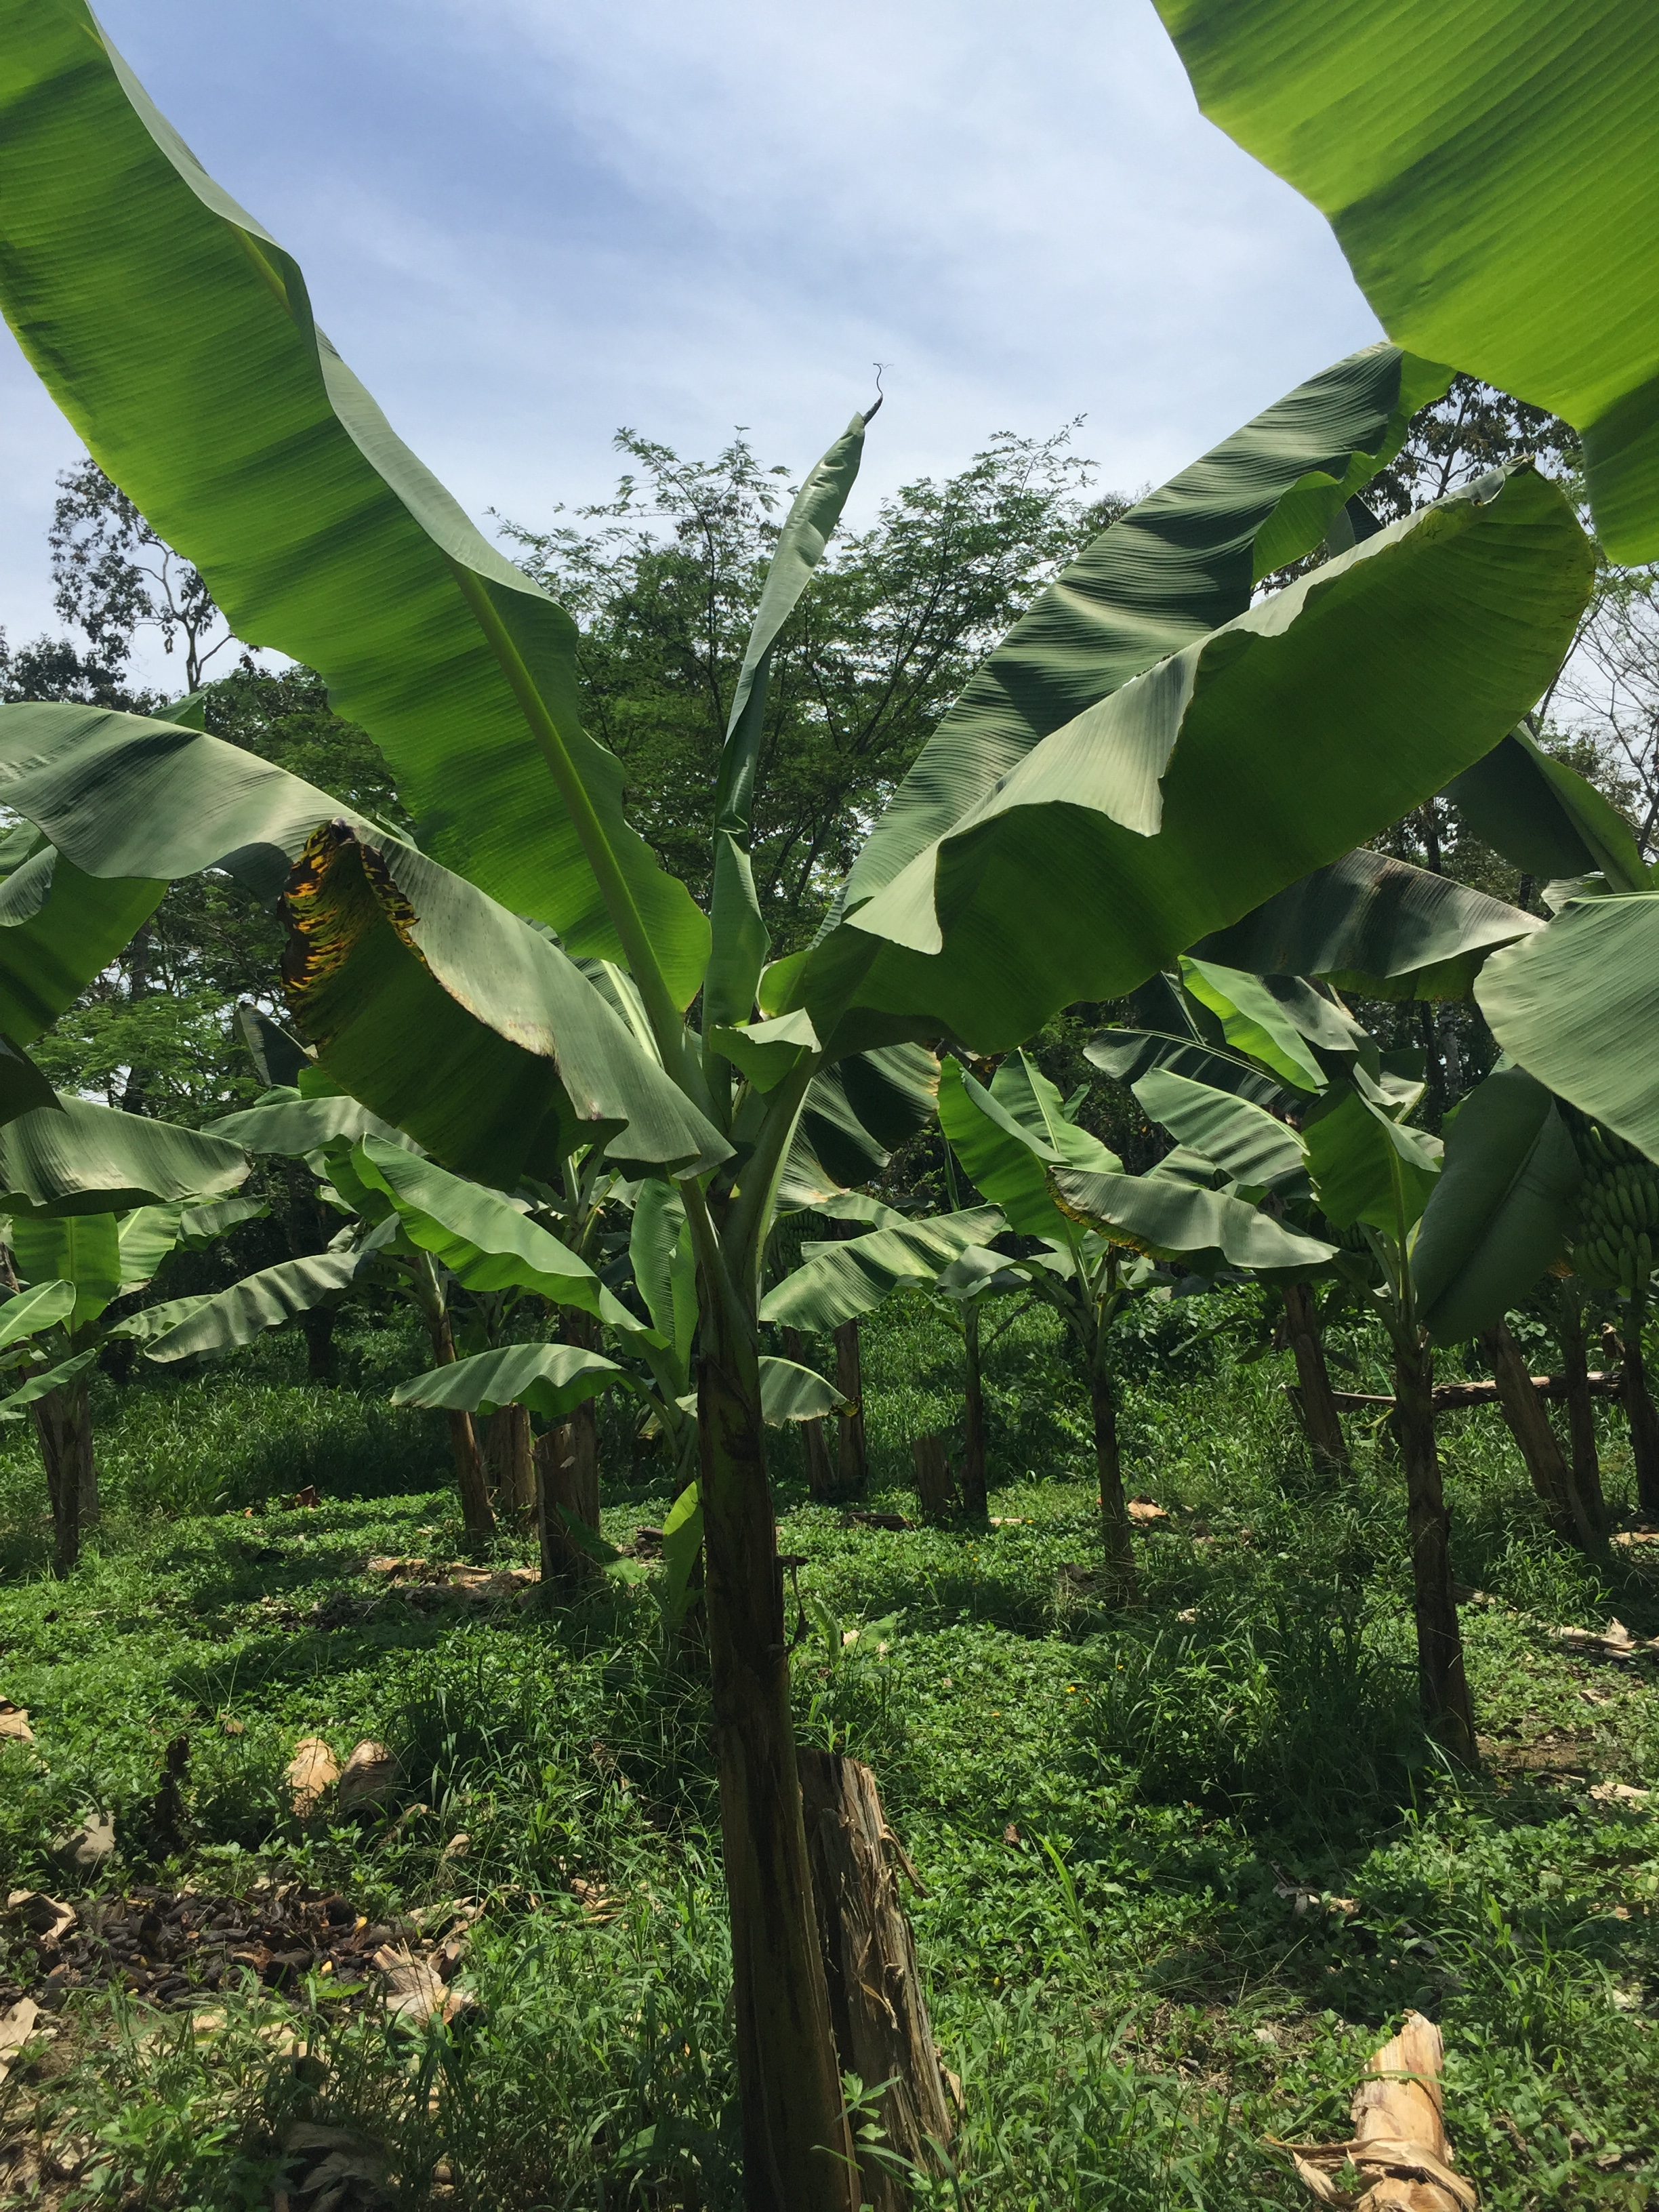candleleafs: (701, 361, 887, 1059)
